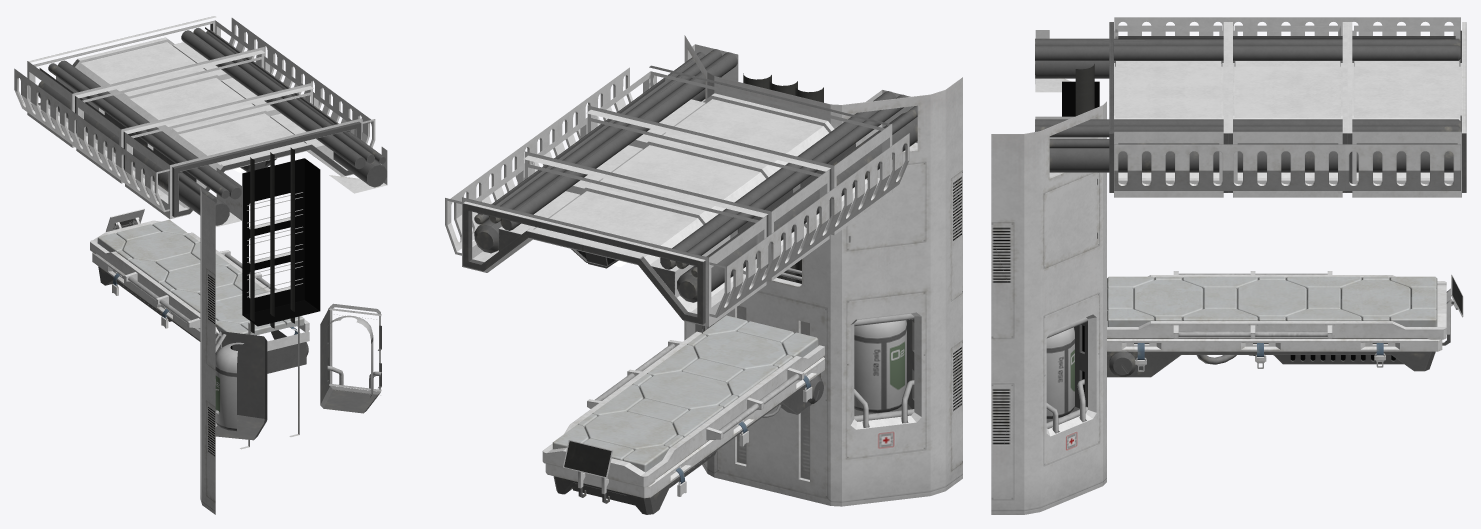
The model's file is med_bay_table.glb.
3 views of the same model, side by side, from view 1: azimuth 30°, elevation 25°; view 2: azimuth 150°, elevation 25°; view 3: azimuth 270°, elevation 25° (orthographic). The views are drawn at different scales.
Visible parts, largest first — view 1: Med_Bay_Table_LOD0; view 2: Med_Bay_Table_LOD0; view 3: Med_Bay_Table_LOD0.
Part boxes in pixels (x1,y1,x2,y2): Med_Bay_Table_LOD0: [14, 16, 387, 514]; Med_Bay_Table_LOD0: [445, 35, 962, 514]; Med_Bay_Table_LOD0: [991, 17, 1466, 514].
Size of the model in its own units: 2.4 by 3.27 by 3.7.
1 material, 1 textured.
